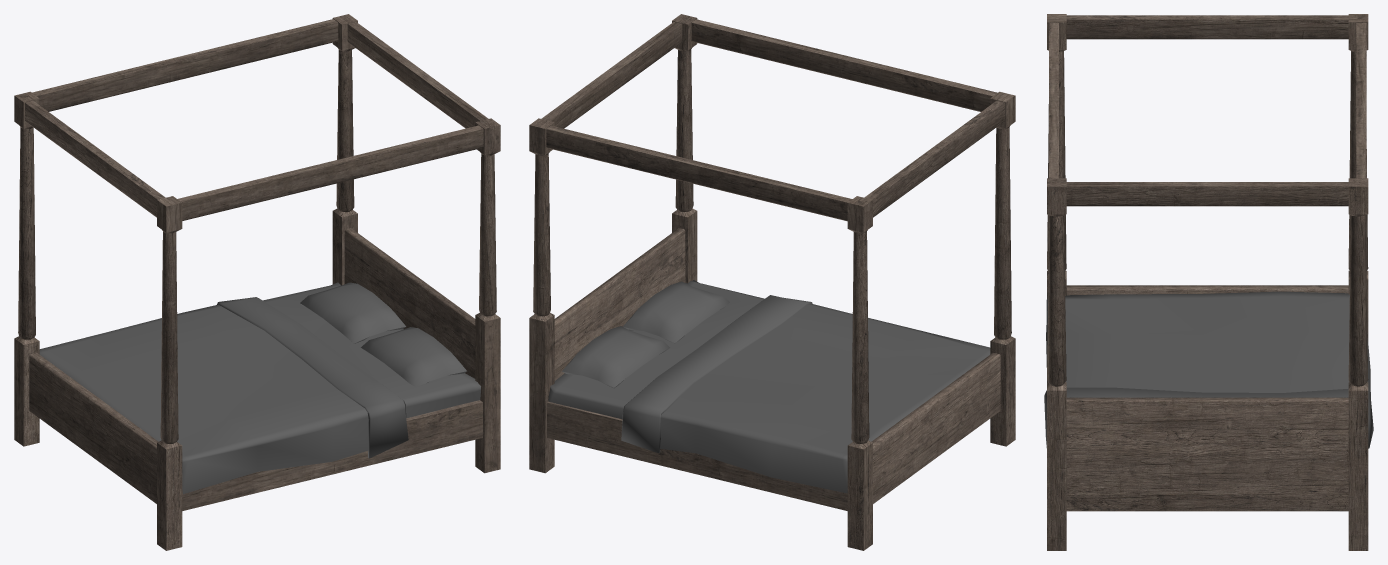
The model's file is mw_bed_large_02.FBX.
3 renders of one model, left to right at view 1: azimuth 30°, elevation 25°; view 2: azimuth 150°, elevation 25°; view 3: azimuth 270°, elevation 25°, orthographic. The views are drawn at different scales.
Parts seen in each view (by area): view 1: mw_bed_large_02; view 2: mw_bed_large_02; view 3: mw_bed_large_02.
Boxes of the visible parts, x1,y1,x2,y2 form: mw_bed_large_02: (14, 14, 500, 550); mw_bed_large_02: (529, 14, 1015, 550); mw_bed_large_02: (1044, 14, 1373, 550).
Bounding box in the file's own units: 286 × 282 × 231.
